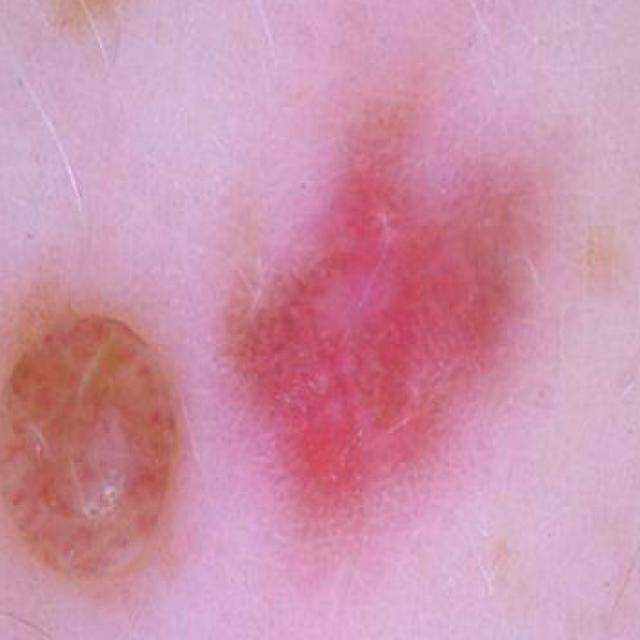MEL: (0, 108, 598, 634)
